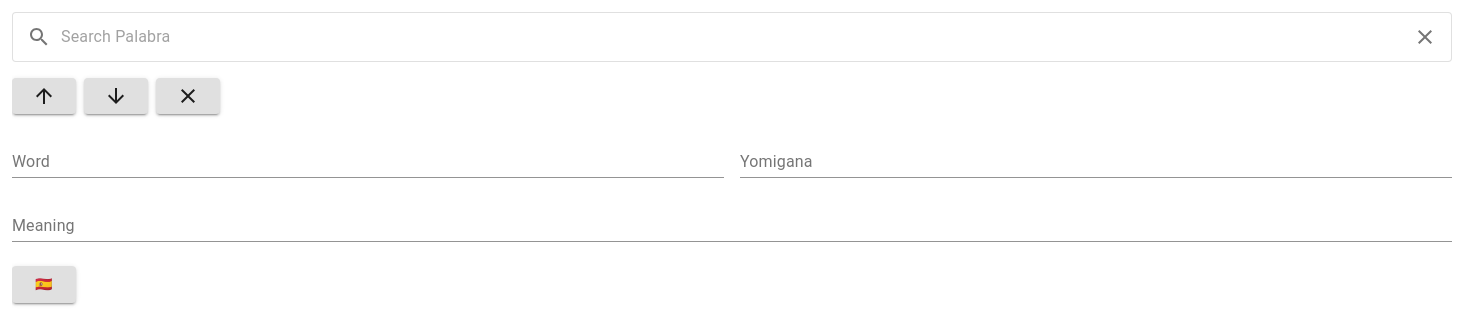
Test case: move down
The width and height of the screenshot is (1464, 323).
Type "aaa" into the field with placeholder "Search Palabra" at (732, 37), box [61, 21, 1403, 53]
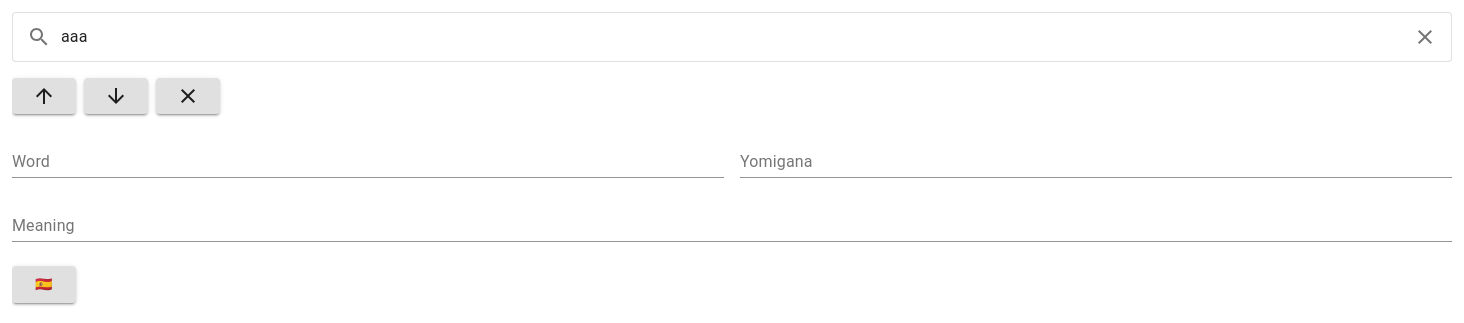
Click the button named "from search" at (116, 96), box [84, 78, 148, 114]
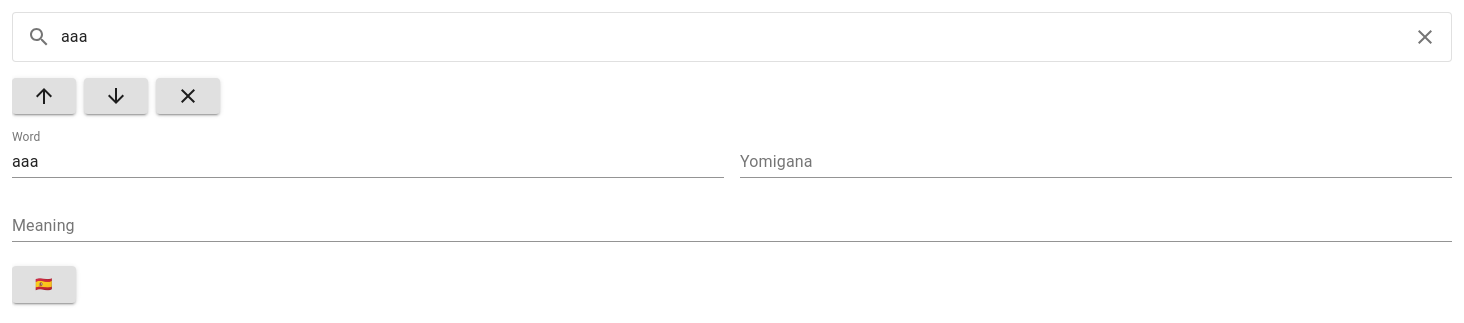
Check: the field named "yomigana" is empty, box [740, 146, 1452, 178]
Check: the field named "word" holds "aaa", box [12, 146, 724, 178]
